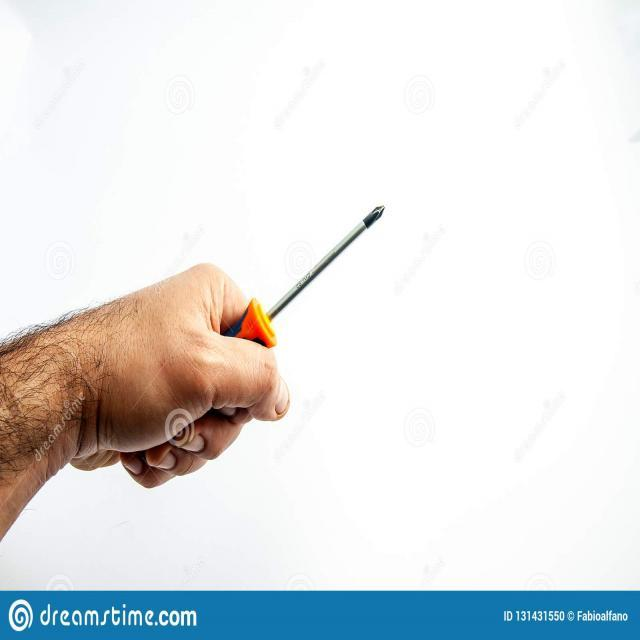screwdriver: (190, 182, 386, 370)
